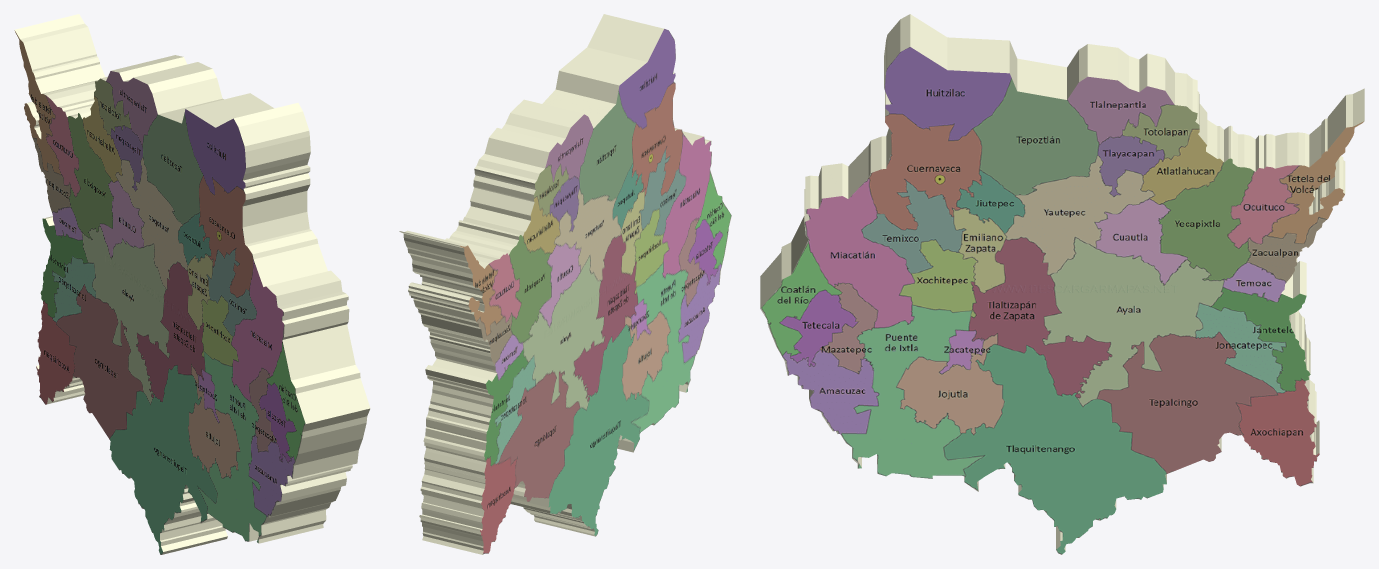
The model's file is morelos.glb.
3 renders of one model, left to right at view 1: azimuth 30°, elevation 25°; view 2: azimuth 150°, elevation 25°; view 3: azimuth 270°, elevation 25°, orthographic. The views are drawn at different scales.
Parts seen in each view (by area): view 1: Plano; view 2: Plano; view 3: Plano.
Part boxes in pixels (x1,y1,x2,y2): Plano: (14,14,370,554); Plano: (399,14,731,554); Plano: (760,14,1364,554).
Size of the model in its own units: 0.1558 by 1.13 by 1.21.
Materials: 1 (1 with a texture image).
